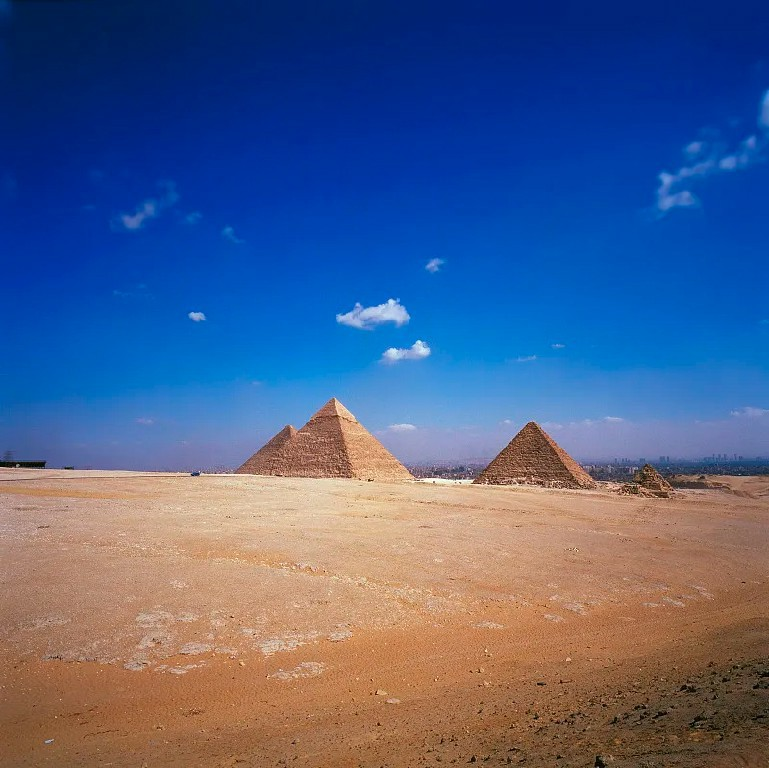Pyramid: (255, 399, 416, 482), (469, 421, 599, 489), (233, 424, 300, 473)
